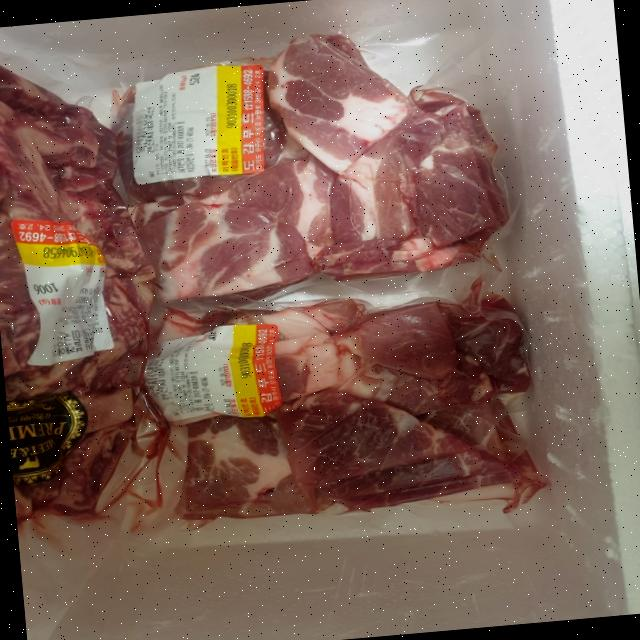meat: (0, 0, 569, 551)
